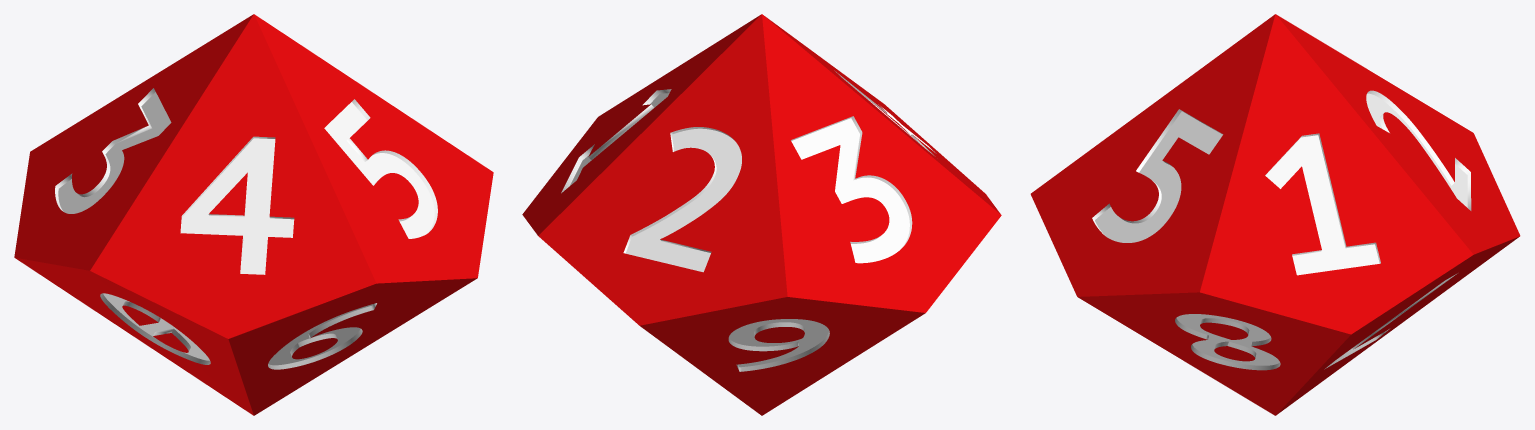
3 renders of one model, left to right at view 1: azimuth 30°, elevation 25°; view 2: azimuth 150°, elevation 25°; view 3: azimuth 270°, elevation 25°, orthographic.
Parts seen in each view (by area): view 1: d10.001; view 2: d10.001; view 3: d10.001.
Part boxes in pixels (x1,y1,x2,y2): d10.001: [14, 14, 493, 415]; d10.001: [522, 14, 1001, 415]; d10.001: [1030, 14, 1520, 415].
Bounding box in the file's own units: 1.9 × 1.81 × 2.
